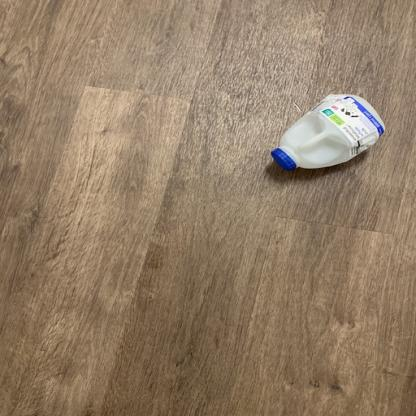trash: (269, 92, 388, 176)
